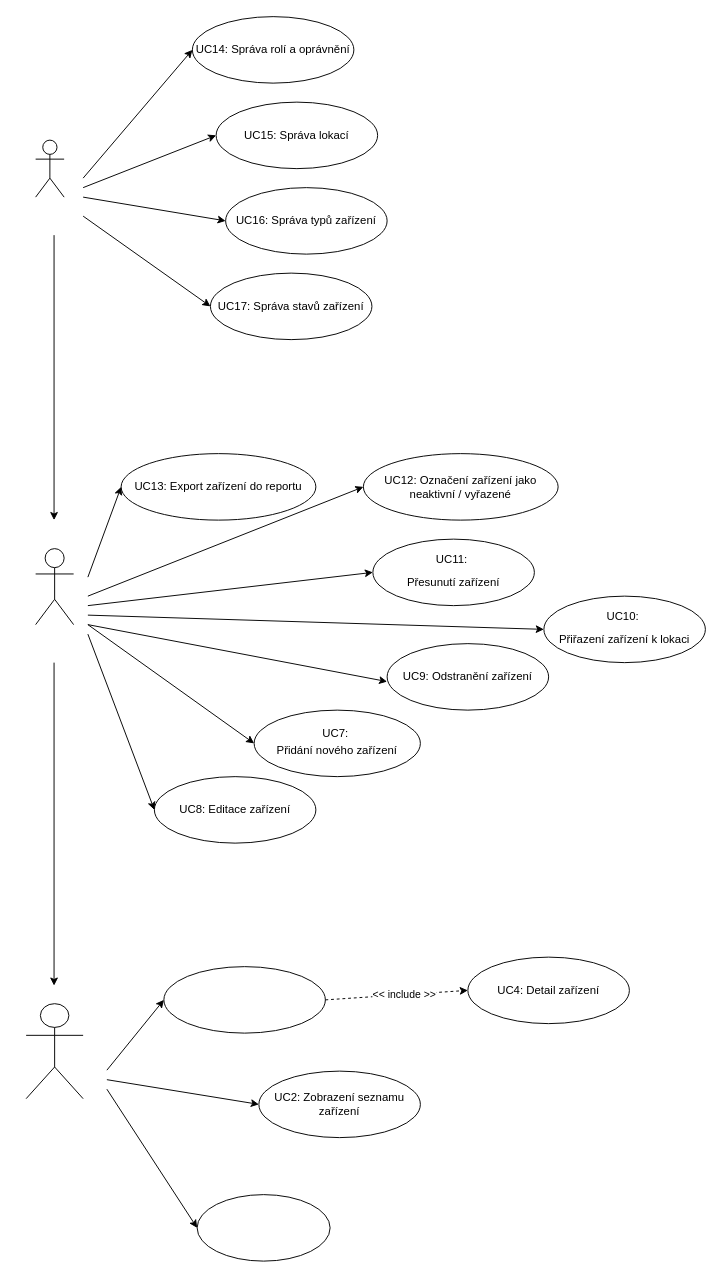
Some shapes in this 722 by 1278 pixel diagram are drawn without their labels. Here are the shapes that lost their labels. From the top down, the centre of each, then its label:
At [49,168]: "Administrator".
At [54,586]: "It technik".
At [244,999]: "UC3: Vyhledávání zařízení".
At [54,1051]: "Operátor".
At [263,1227]: "UC1: Přihlášení".
